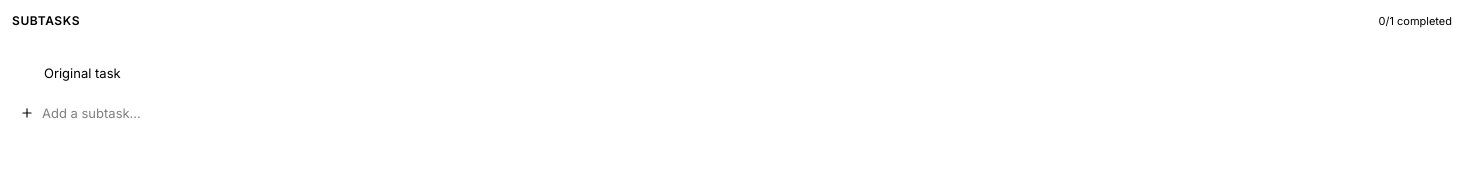
restores the original subtask name on an HTTP rename failure
Replace the text in the field showing "Original task" with "Renamed task": x=733, y=74 [44, 64, 1422, 84]
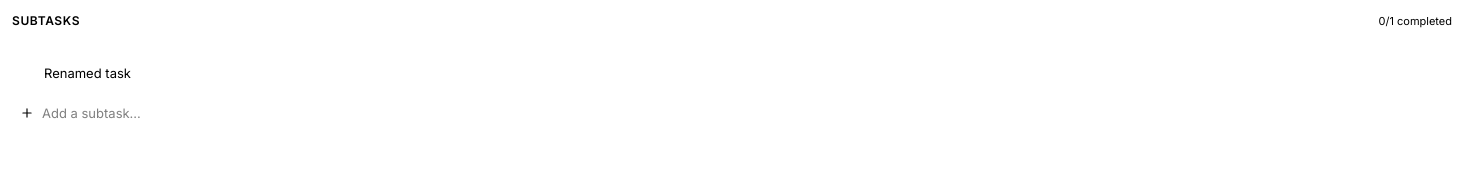
Leave the field showing "Original task", box [44, 64, 1422, 84]
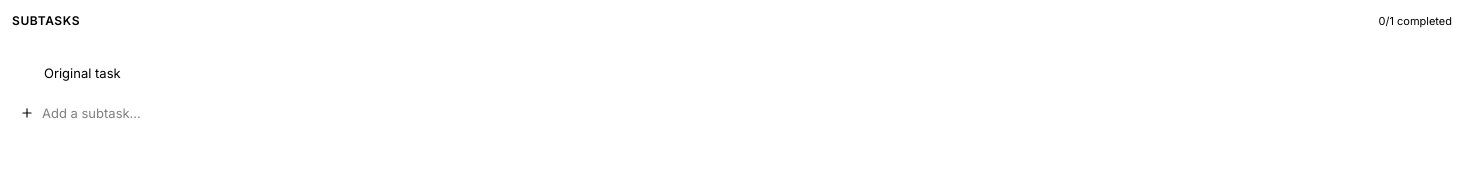
Expected: the field showing "Original task" is shown, [44, 64, 1422, 84]
